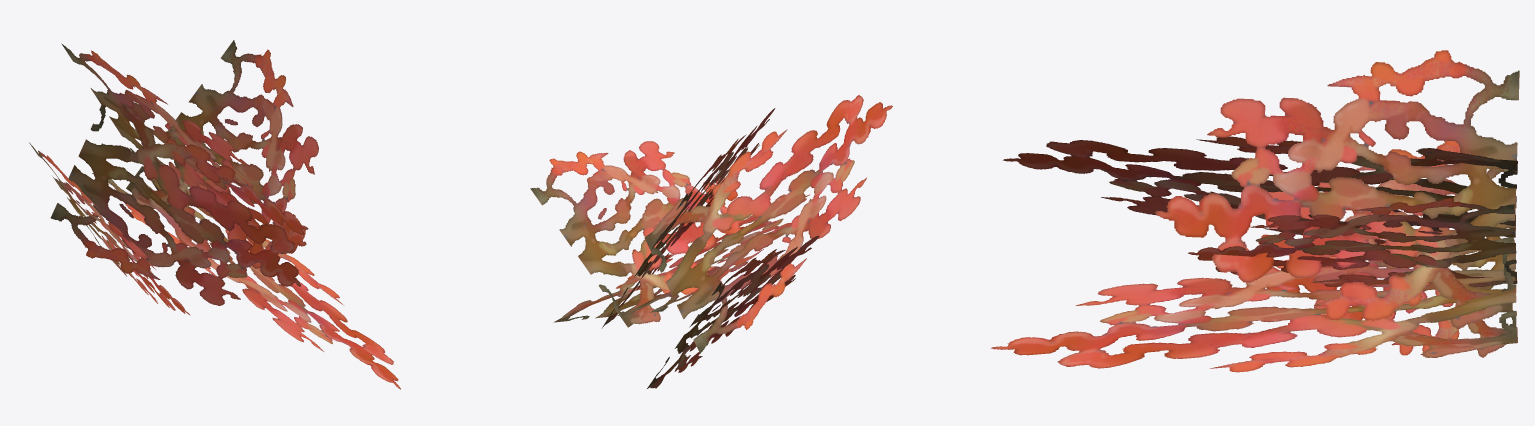
Rendered from env_clutter_seaweed01.fbx.
3 views of the same model, side by side, from view 1: azimuth 30°, elevation 25°; view 2: azimuth 150°, elevation 25°; view 3: azimuth 270°, elevation 25° (orthographic). The views are drawn at different scales.
Parts seen in each view (by area): view 1: seaweed01; view 2: seaweed01; view 3: seaweed01.
Boxes of the visible parts, x1,y1,x2,y2 form: seaweed01: (29,40,400,389); seaweed01: (530,94,892,388); seaweed01: (990,50,1519,372).
Size of the model in its own units: 1.93 by 2.28 by 3.54.
